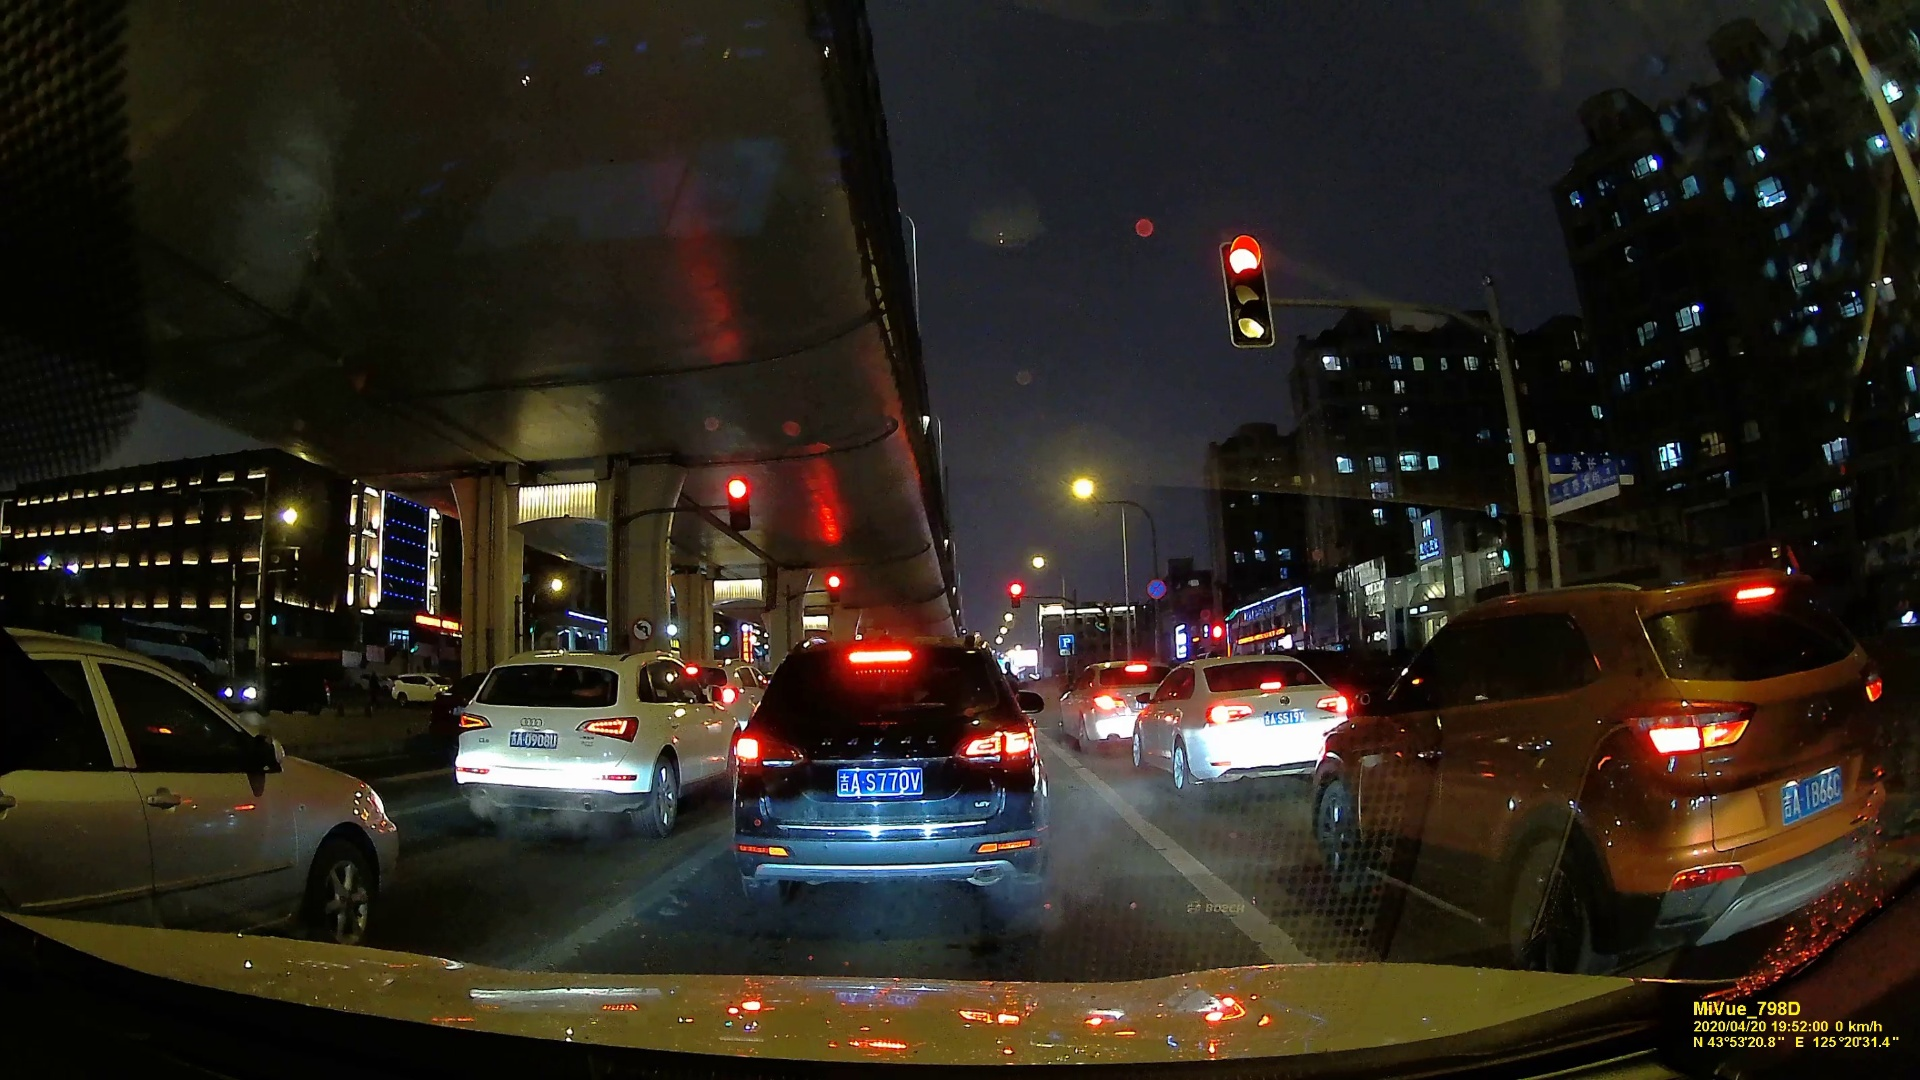traffic_sign: (1222, 233, 1278, 349), (1542, 469, 1625, 509), (1482, 501, 1523, 568), (723, 475, 749, 526), (1147, 578, 1168, 601), (825, 574, 843, 603), (1007, 582, 1025, 608), (632, 617, 651, 640), (1058, 633, 1075, 657)
vehicle: (1323, 580, 1876, 990), (3, 632, 409, 940), (724, 622, 1034, 918), (448, 649, 731, 832), (1131, 650, 1350, 793), (1065, 659, 1156, 752), (382, 669, 446, 704)
